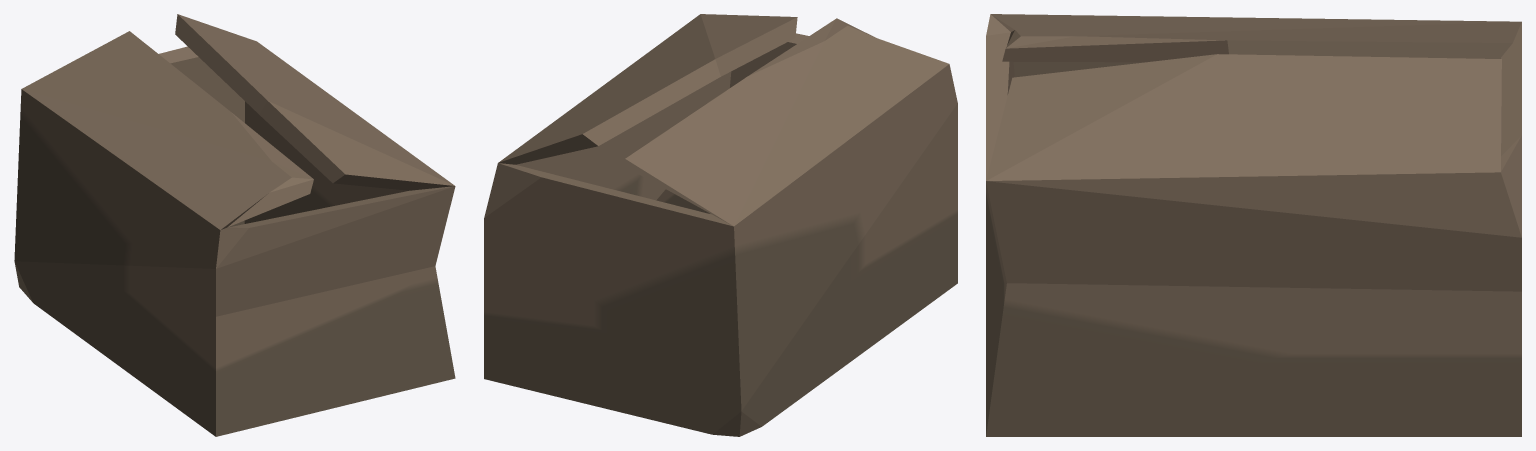
The model's file is SM_Prop_Cardboard_Box_06.fbx.
3 renders of one model, left to right at view 1: azimuth 30°, elevation 25°; view 2: azimuth 150°, elevation 25°; view 3: azimuth 270°, elevation 25°, orthographic. The views are drawn at different scales.
Visible parts, largest first — view 1: SM_Prop_Cardboard_Box_06; view 2: SM_Prop_Cardboard_Box_06; view 3: SM_Prop_Cardboard_Box_06.
Part boxes in pixels (<box>): SM_Prop_Cardboard_Box_06: <box>14,14,455,436</box>; SM_Prop_Cardboard_Box_06: <box>484,14,957,436</box>; SM_Prop_Cardboard_Box_06: <box>986,14,1521,436</box>.
Bounding box in the file's own units: 50 × 48.47 × 72.82.
